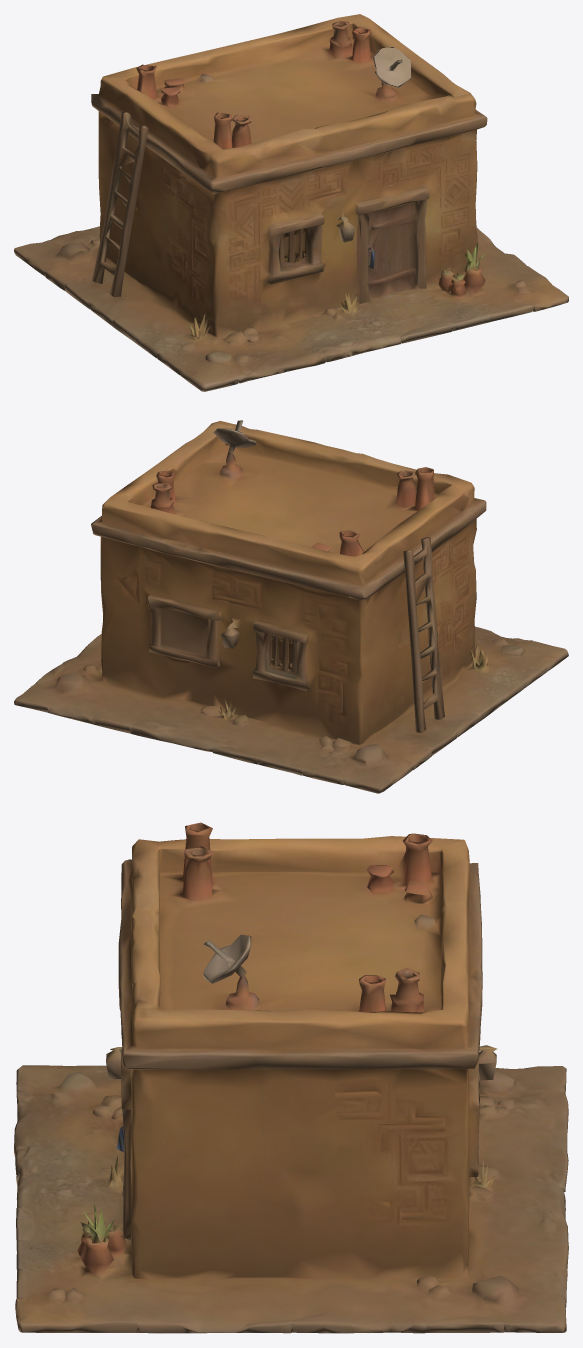
File: kano_house_a.glb
3 renders of one model, top to bottom at view 1: azimuth 30°, elevation 25°; view 2: azimuth 150°, elevation 25°; view 3: azimuth 270°, elevation 25°, orthographic. The views are drawn at different scales.
Visible parts, largest first — view 1: tripo_node_c0d89c38-d0bc-4fa5-ab73-2d5ebc3a52dd; view 2: tripo_node_c0d89c38-d0bc-4fa5-ab73-2d5ebc3a52dd; view 3: tripo_node_c0d89c38-d0bc-4fa5-ab73-2d5ebc3a52dd.
Boxes of the visible parts, x1,y1,x2,y2 form: tripo_node_c0d89c38-d0bc-4fa5-ab73-2d5ebc3a52dd: (14,14,568,391); tripo_node_c0d89c38-d0bc-4fa5-ab73-2d5ebc3a52dd: (14,420,568,793); tripo_node_c0d89c38-d0bc-4fa5-ab73-2d5ebc3a52dd: (14,822,568,1333).
Bounding box in the file's own units: 1 × 0.5741 × 0.8994.
Materials: 1 (1 with a texture image).
